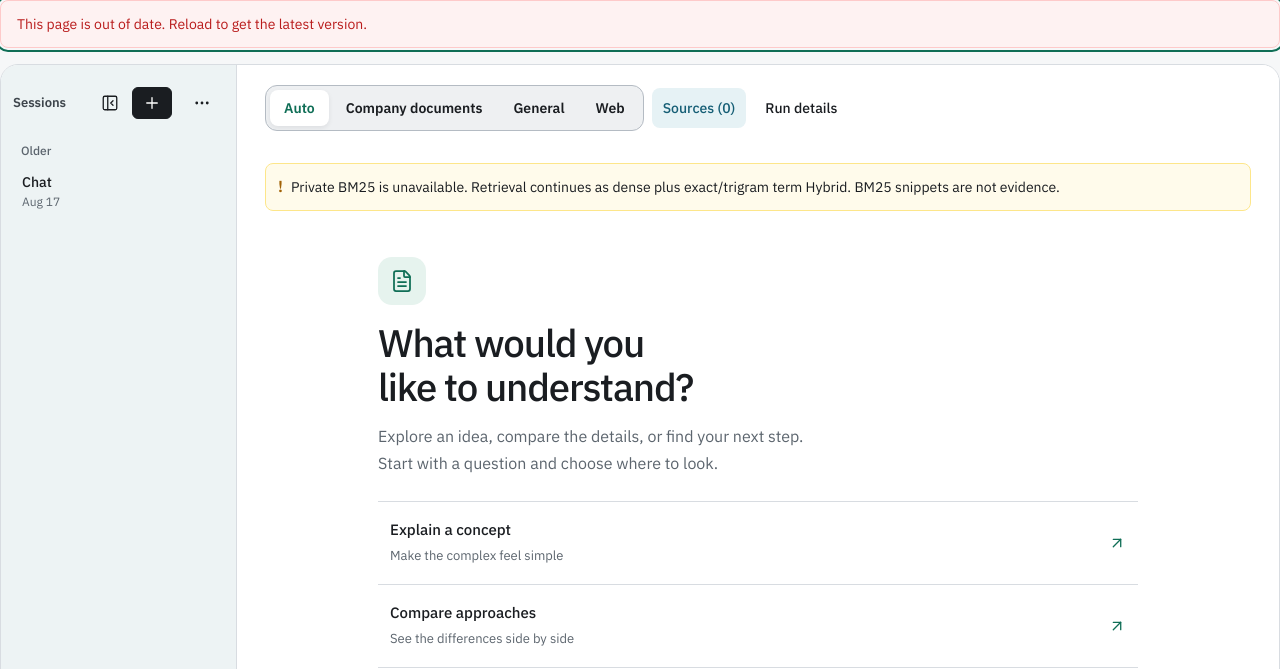
Scenario: ChatApp Ask workspace › collapses the Sessions list without deleting conversations
This screenshot has width=1280, height=669.
Expected: the button "Chat Aug 17" is shown, 13,163 -> 224,219
Click the button named "Collapse sessions": (110, 103) 96,89 -> 124,117
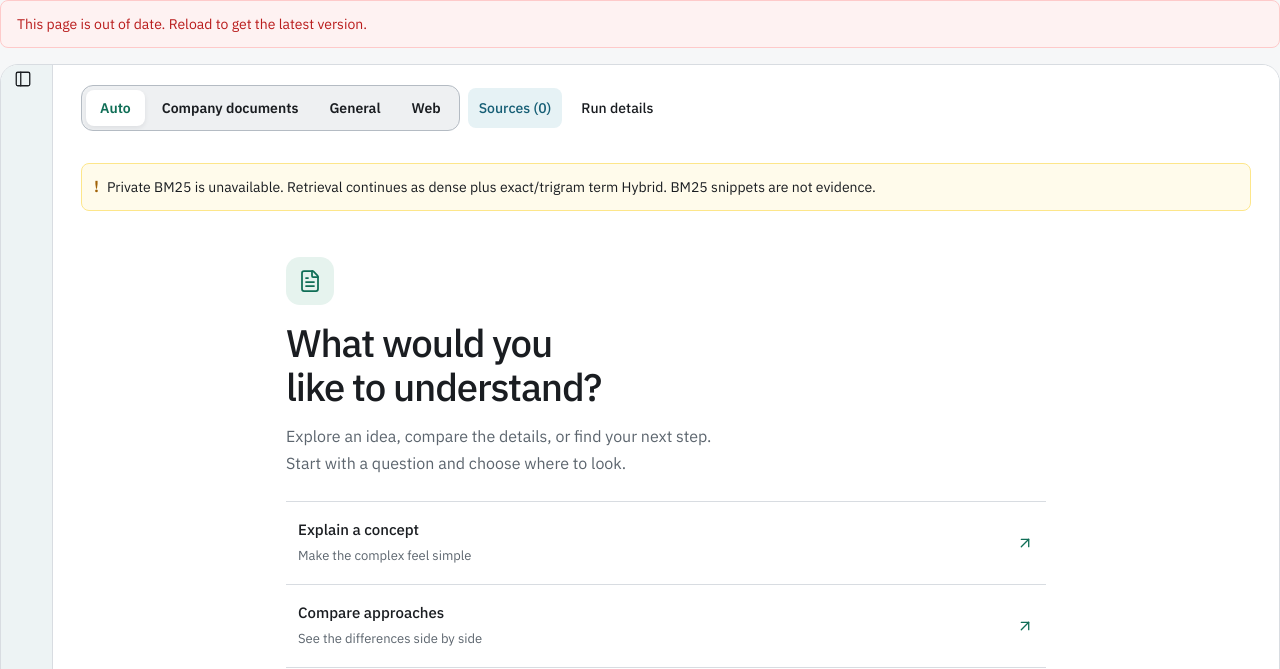
Now the button "Chat" is gone
Click the button named "Expand sessions": (22, 79) 8,65 -> 36,93
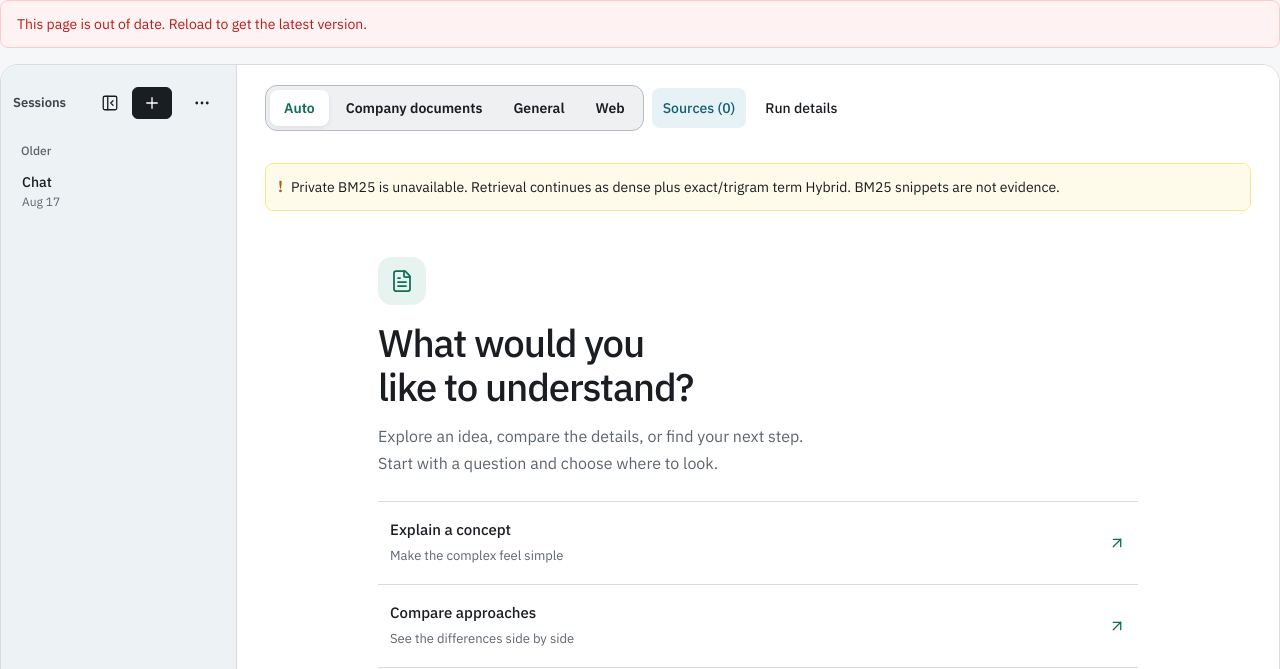
Now the button "Chat Aug 17" is shown, box 13,163 -> 224,219
